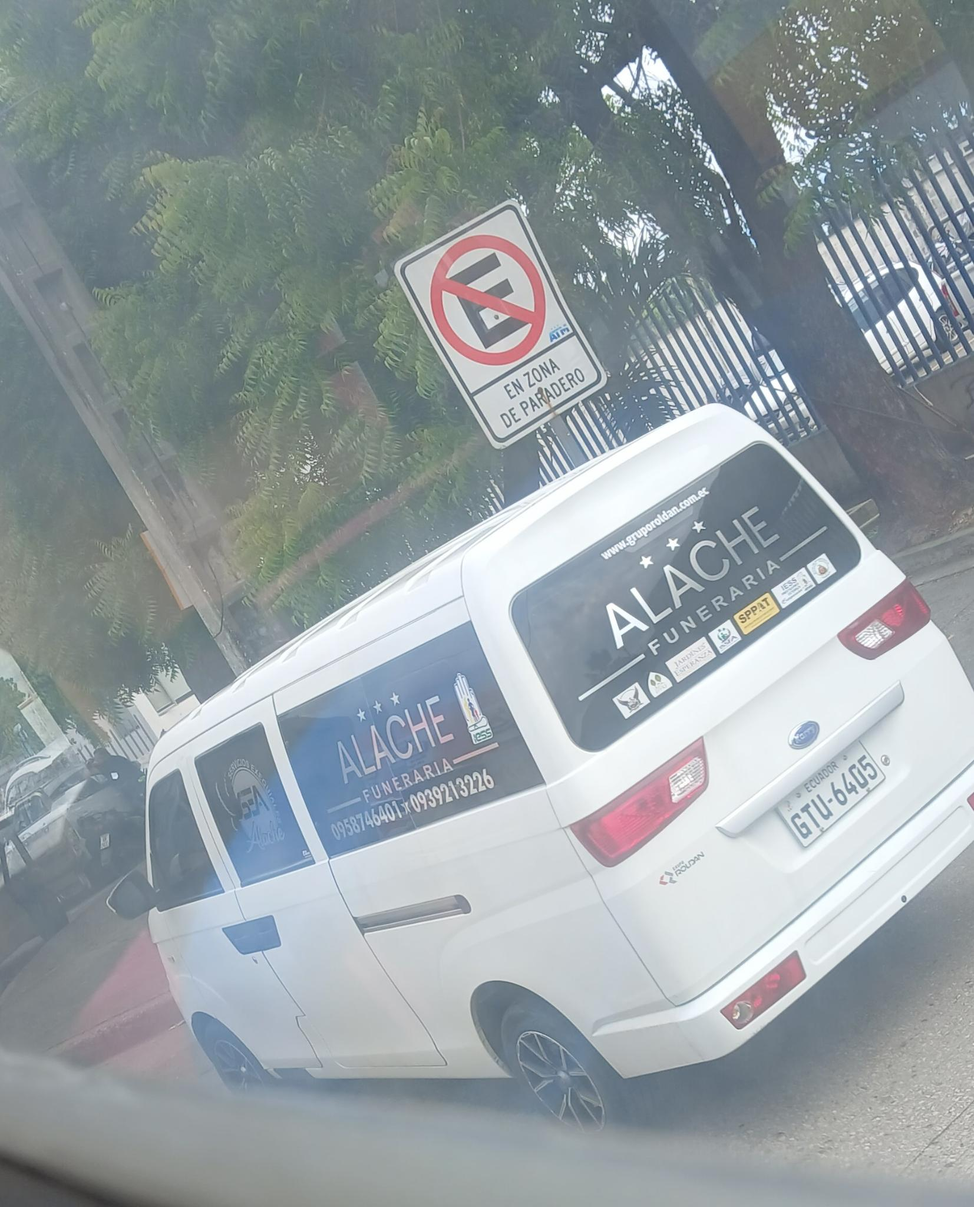license_plate: (778, 738, 889, 848)
